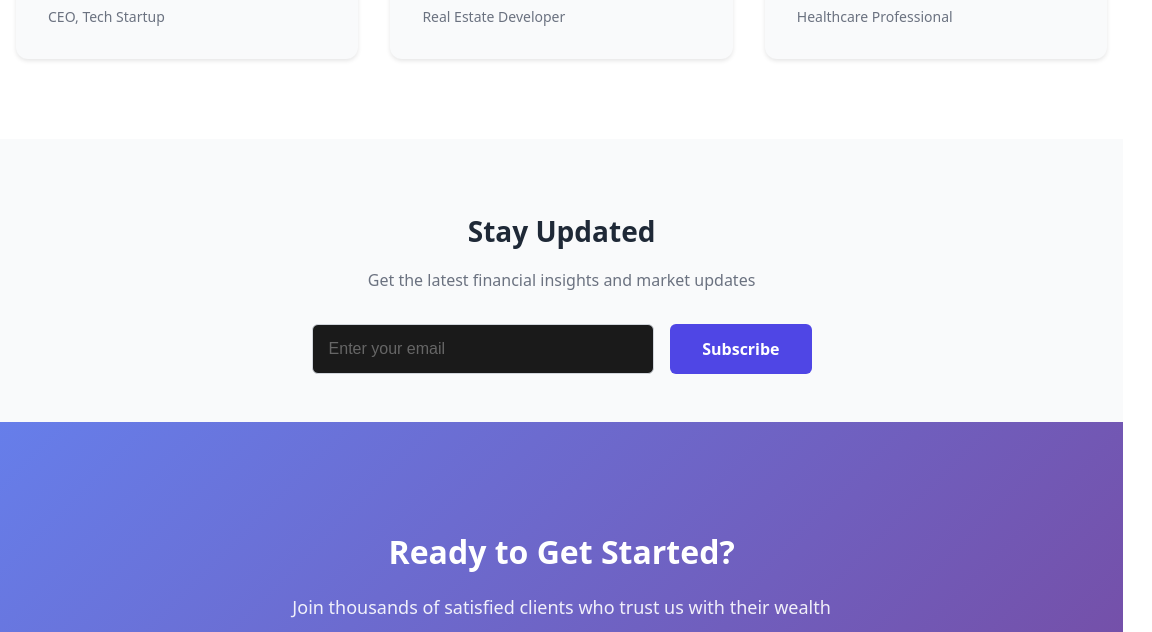
Test case: LandingPage › Newsletter Section › should show success message after subscription
(page scrolled)
Type "test@example.com" into the field with placeholder "Enter your email".
click(483, 349); type("test@example.com")  # box [312,324,654,374]
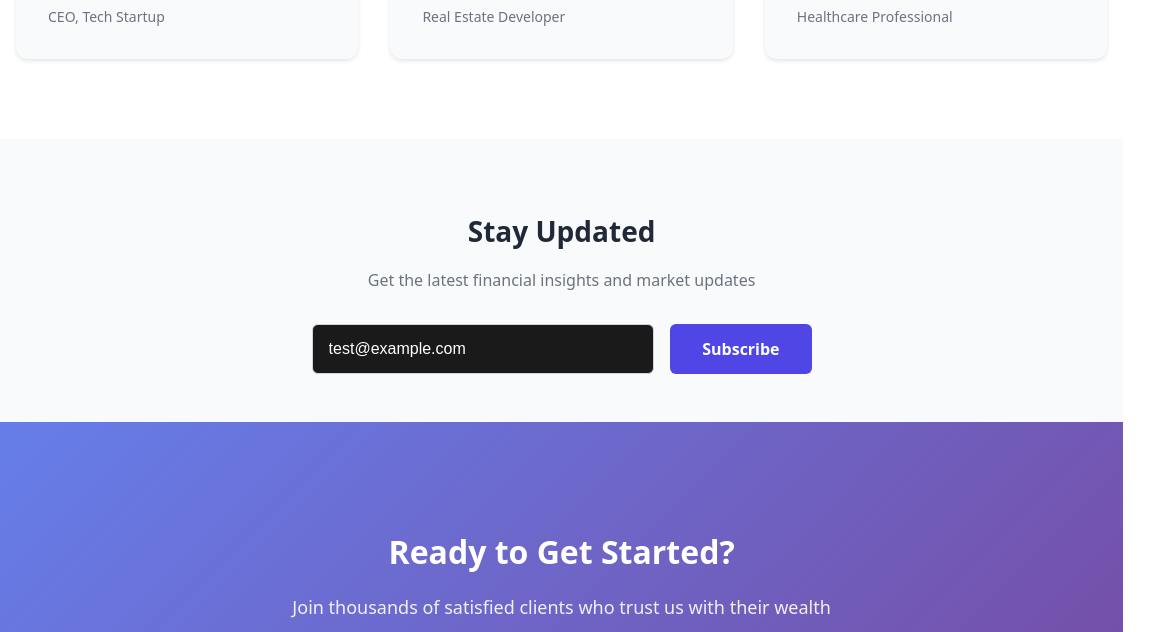
Click the button "Subscribe".
click(741, 349)  # box [670,324,812,374]
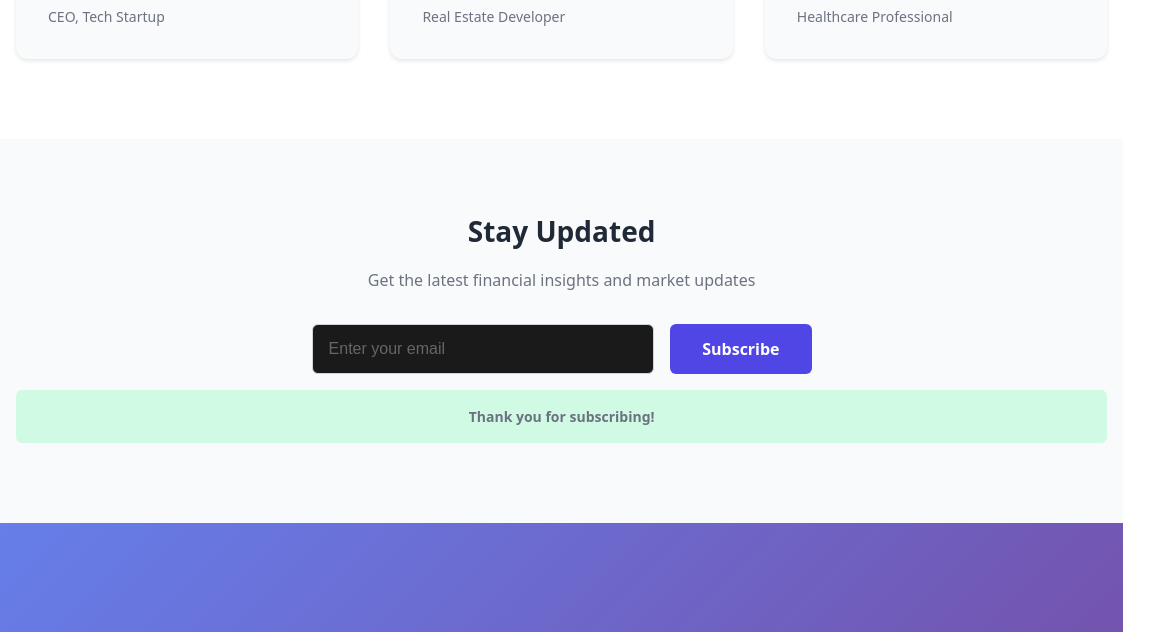
Expected: the text "Thank you for subscribing!" is shown, [16,390,1107,443]
